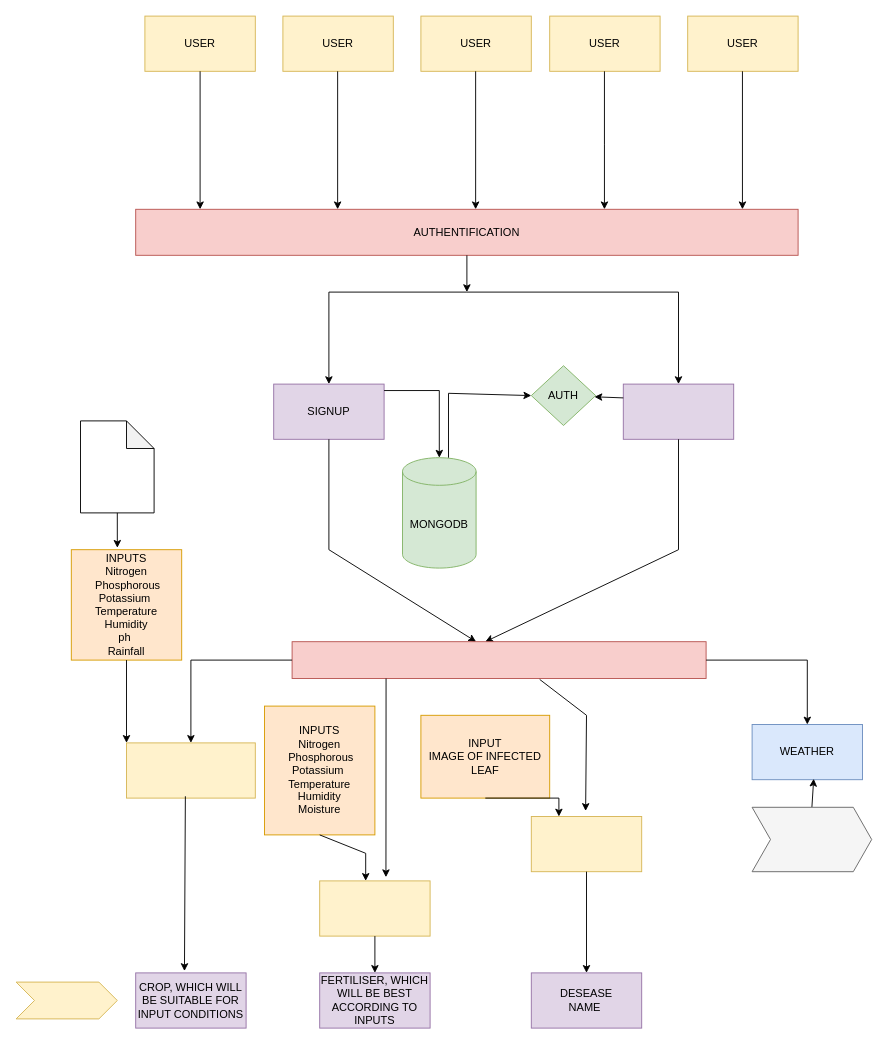
Some shapes in this 888 by 1044 pixel diagram are drawn without their labels. Each missing label, with the box of its shape:
BY API CALL: (751, 806, 872, 872)
CROP ADVISORY: (126, 742, 255, 798)
DASHBOARD: (291, 641, 706, 678)
FERTILISER PREDICTION: (319, 880, 430, 936)
LOGIN: (622, 383, 734, 439)
OUTPUTS: (15, 981, 117, 1019)
PLANT DESEASE DETECTION: (530, 816, 642, 872)
SOIL REPORT: (80, 420, 154, 513)
